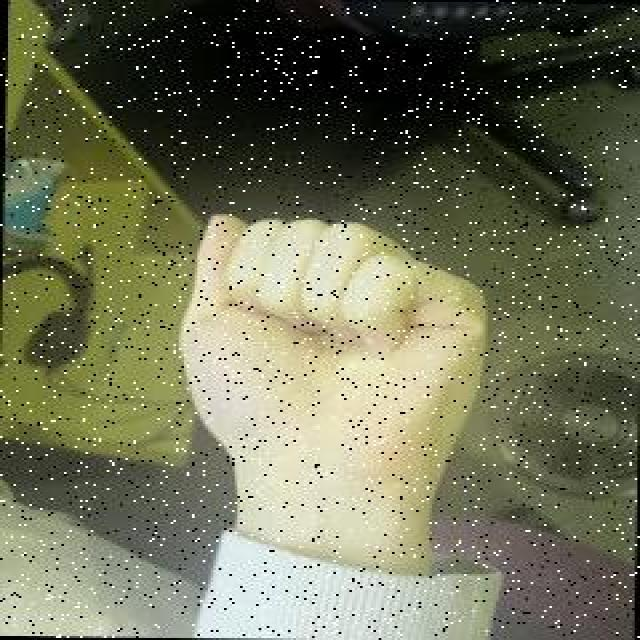A: (167, 204, 500, 524)
